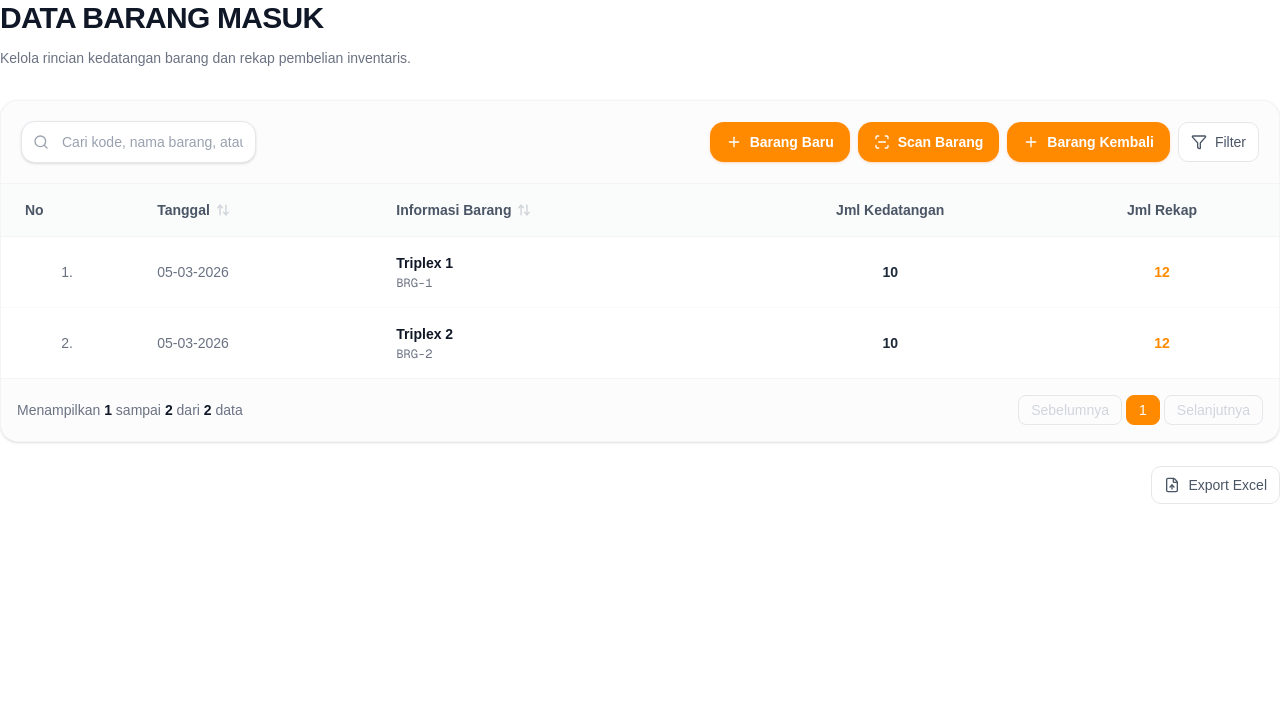
Test case: BarangMasuk scan › opens the scan session from the Scan Barang button
The width and height of the screenshot is (1280, 720).
Expected: the text "Triplex 1" is shown, [396,255,453,271]
Click the button "Scan Barang". click: (928, 142)
box: [858,122,999,162]
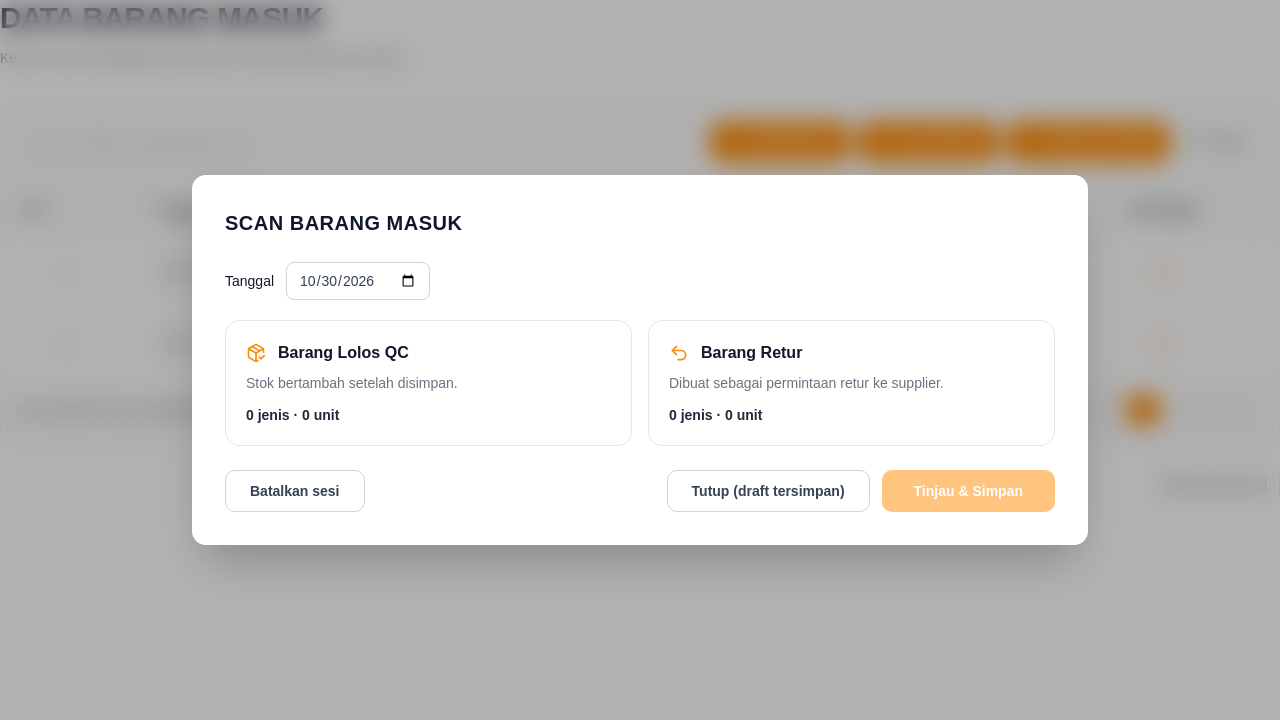
Click the text "Barang Lolos QC". click: (343, 353)
box: [278,341,409,365]
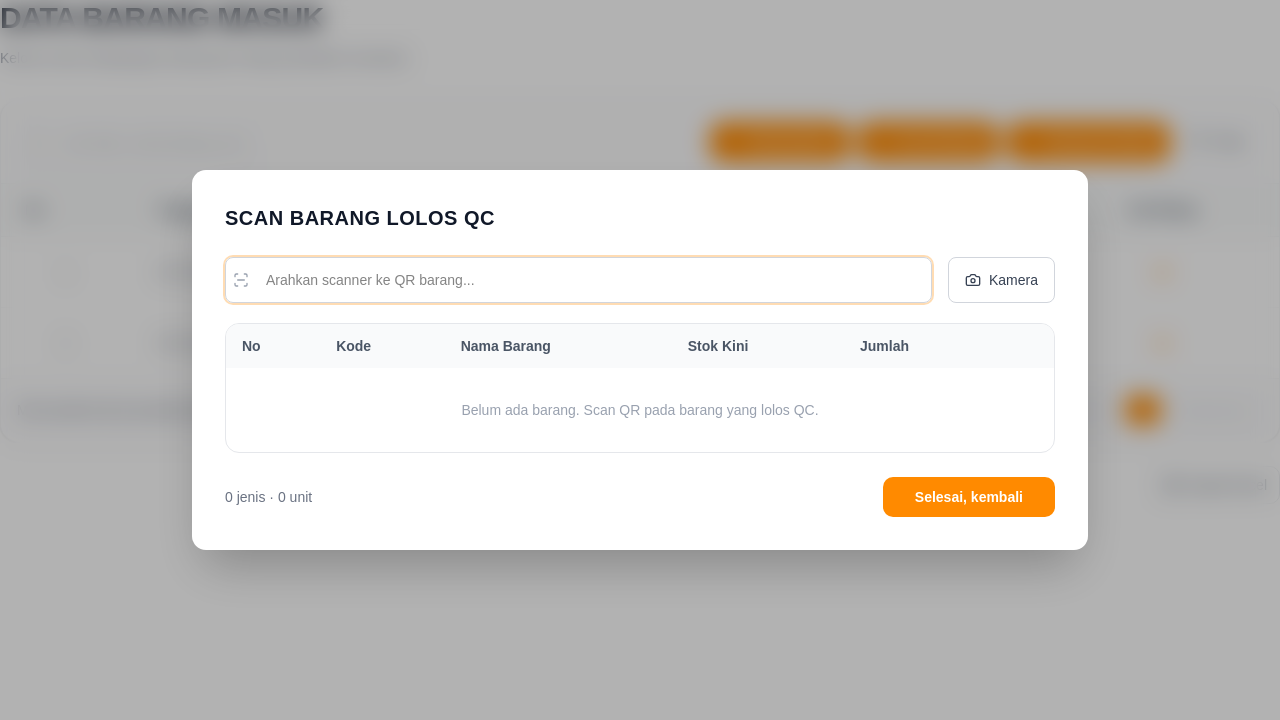
Expected: the field named "Hasil scan" is shown, [225,257,932,303]
